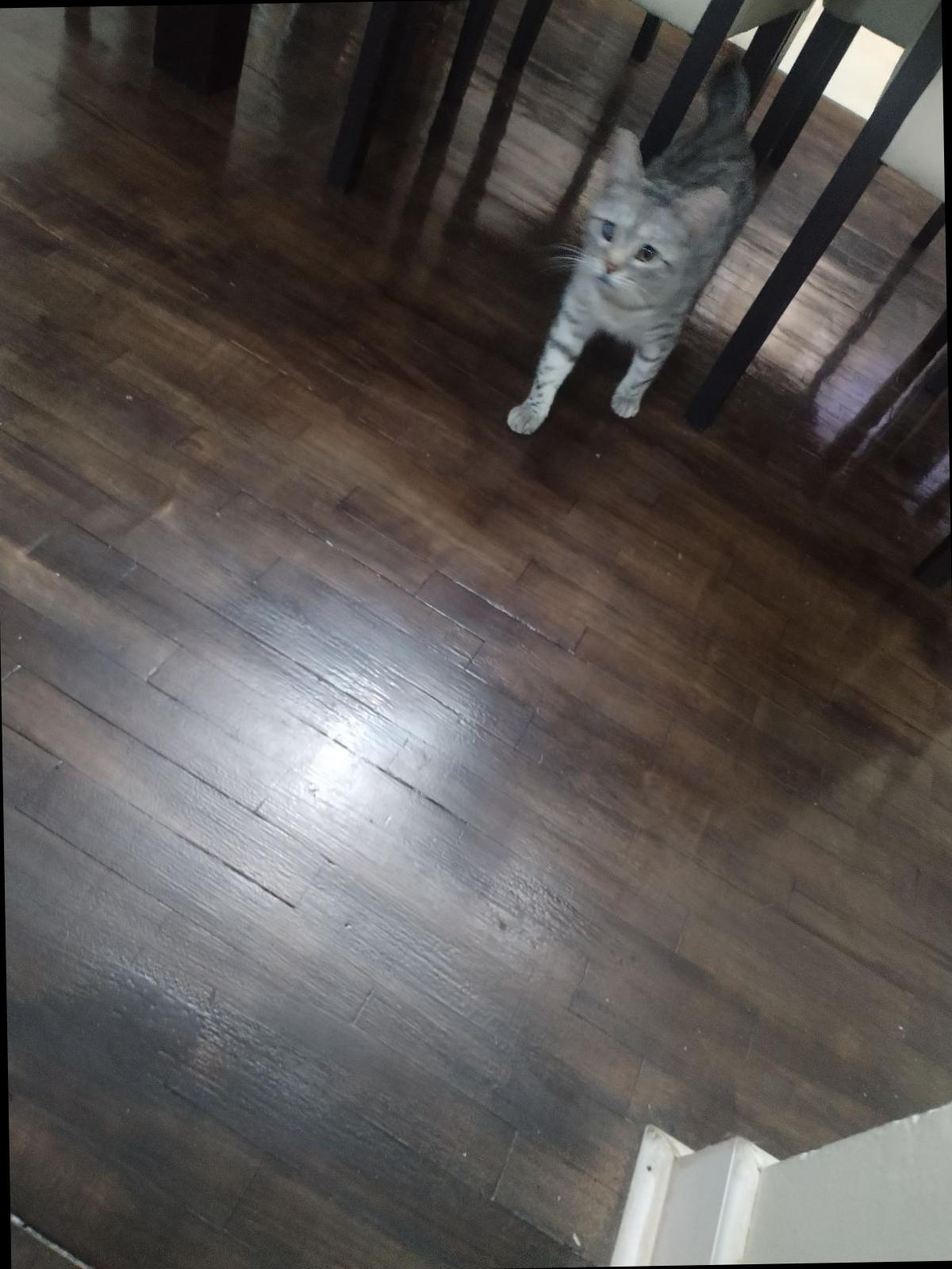macka: (494, 57, 766, 436)
